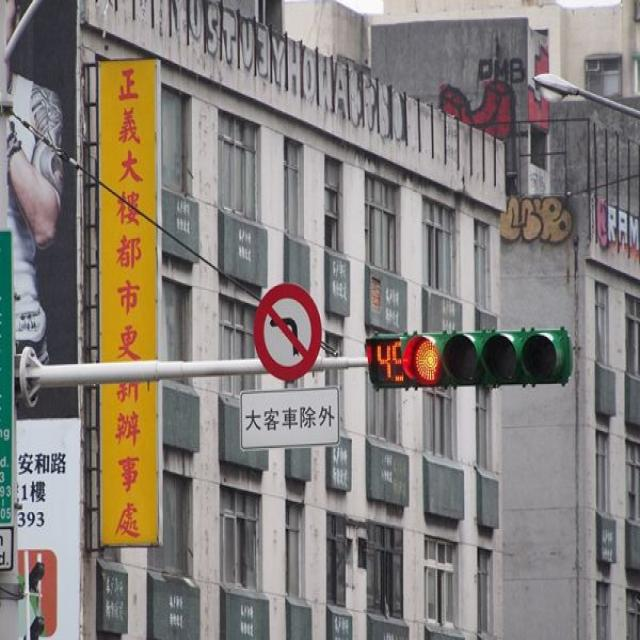red light: (404, 330, 572, 385)
